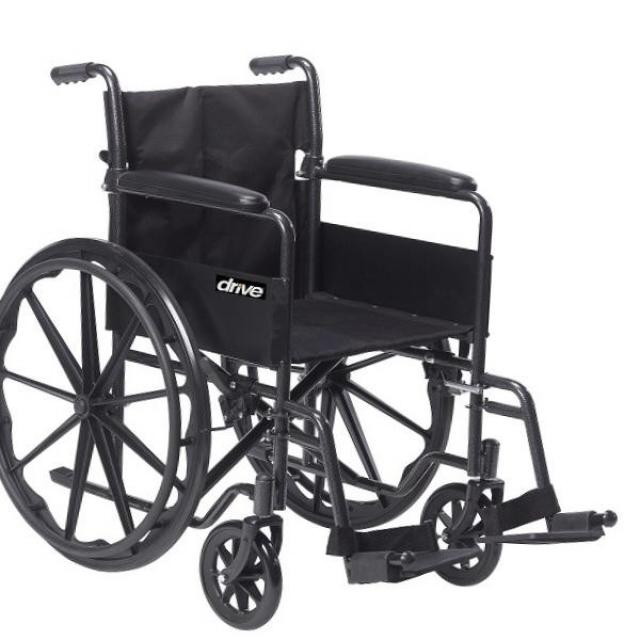wheelchair: (0, 51, 620, 640)
